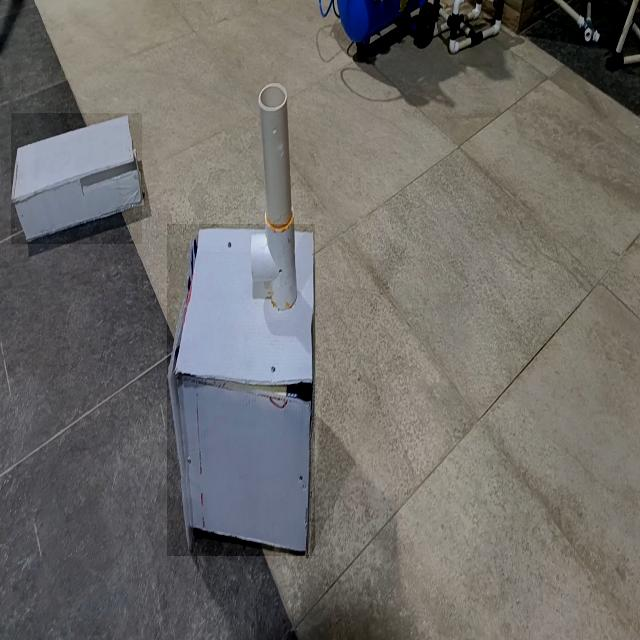Cube: (167, 224, 315, 556)
Cuboid: (11, 113, 142, 244)
